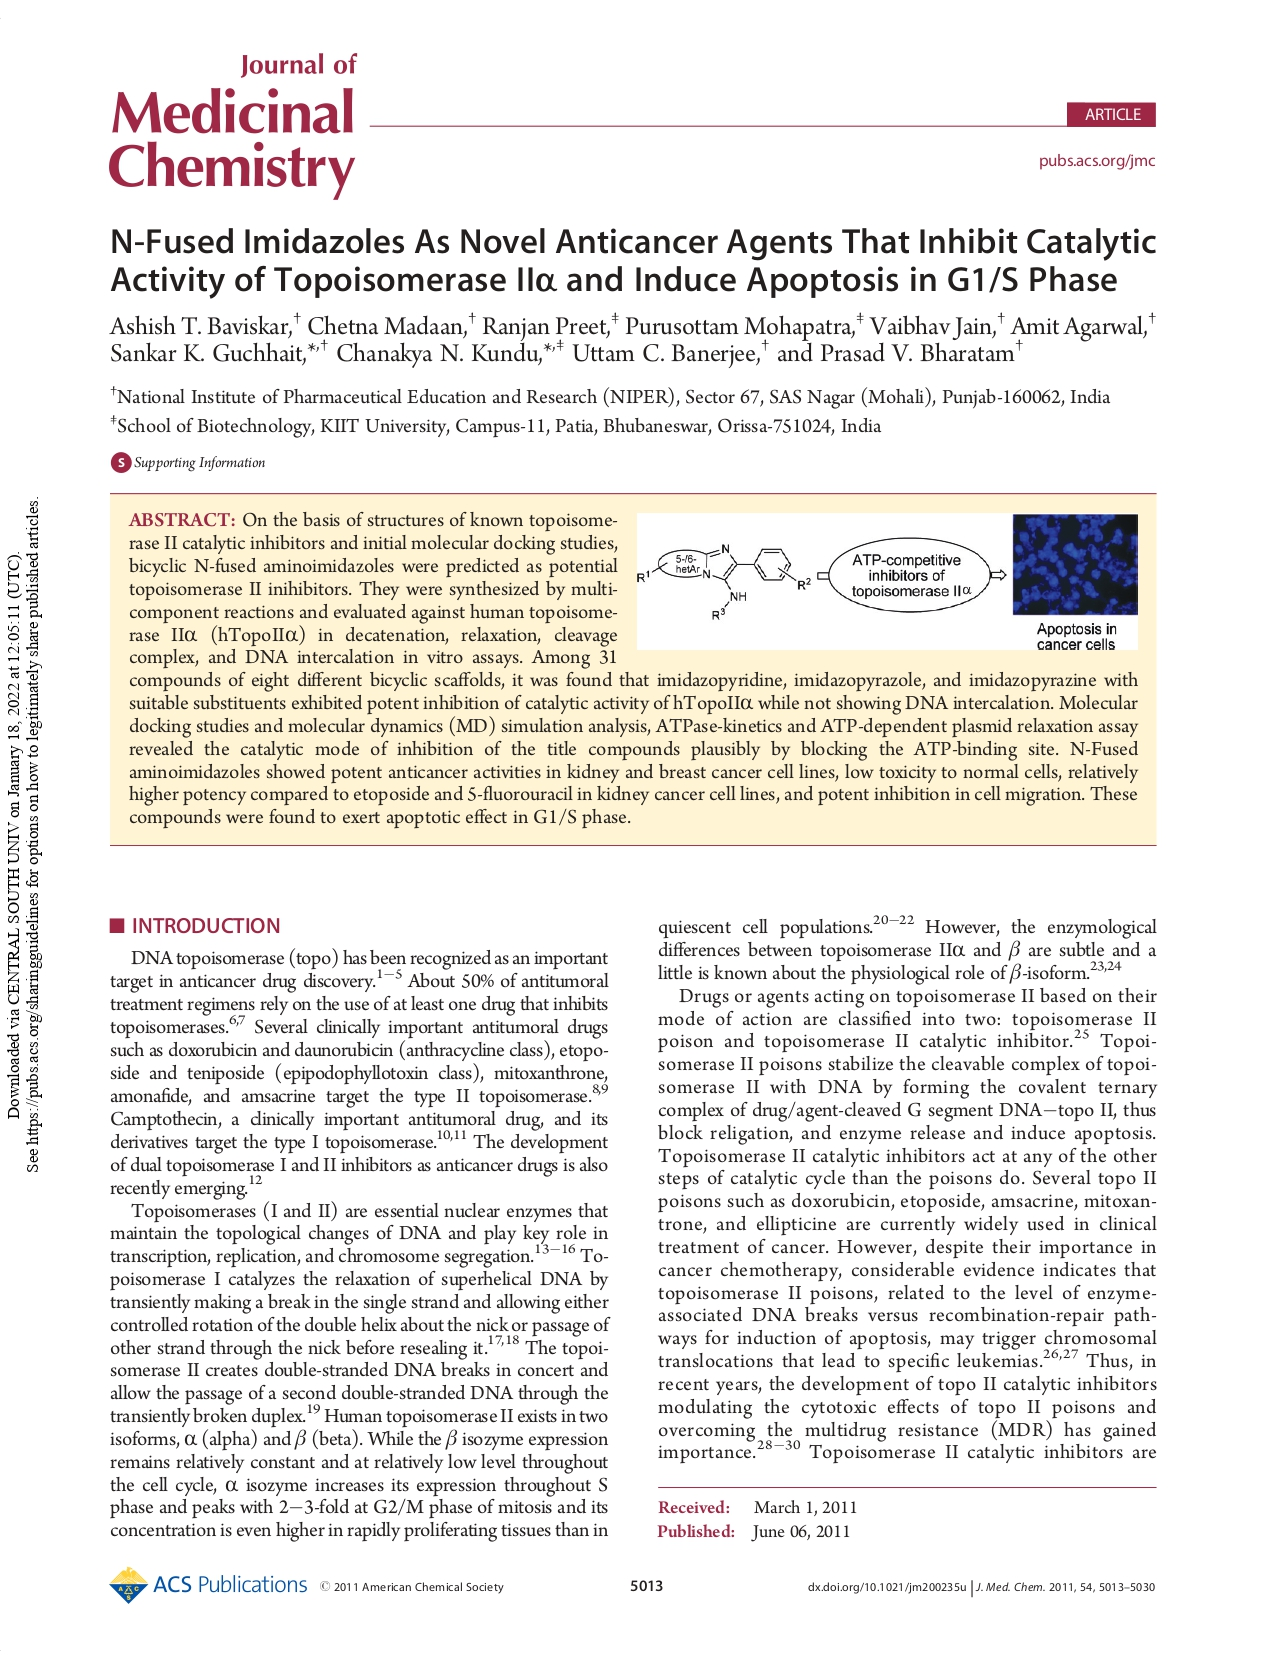exist_molecular: (636, 541, 813, 621)
